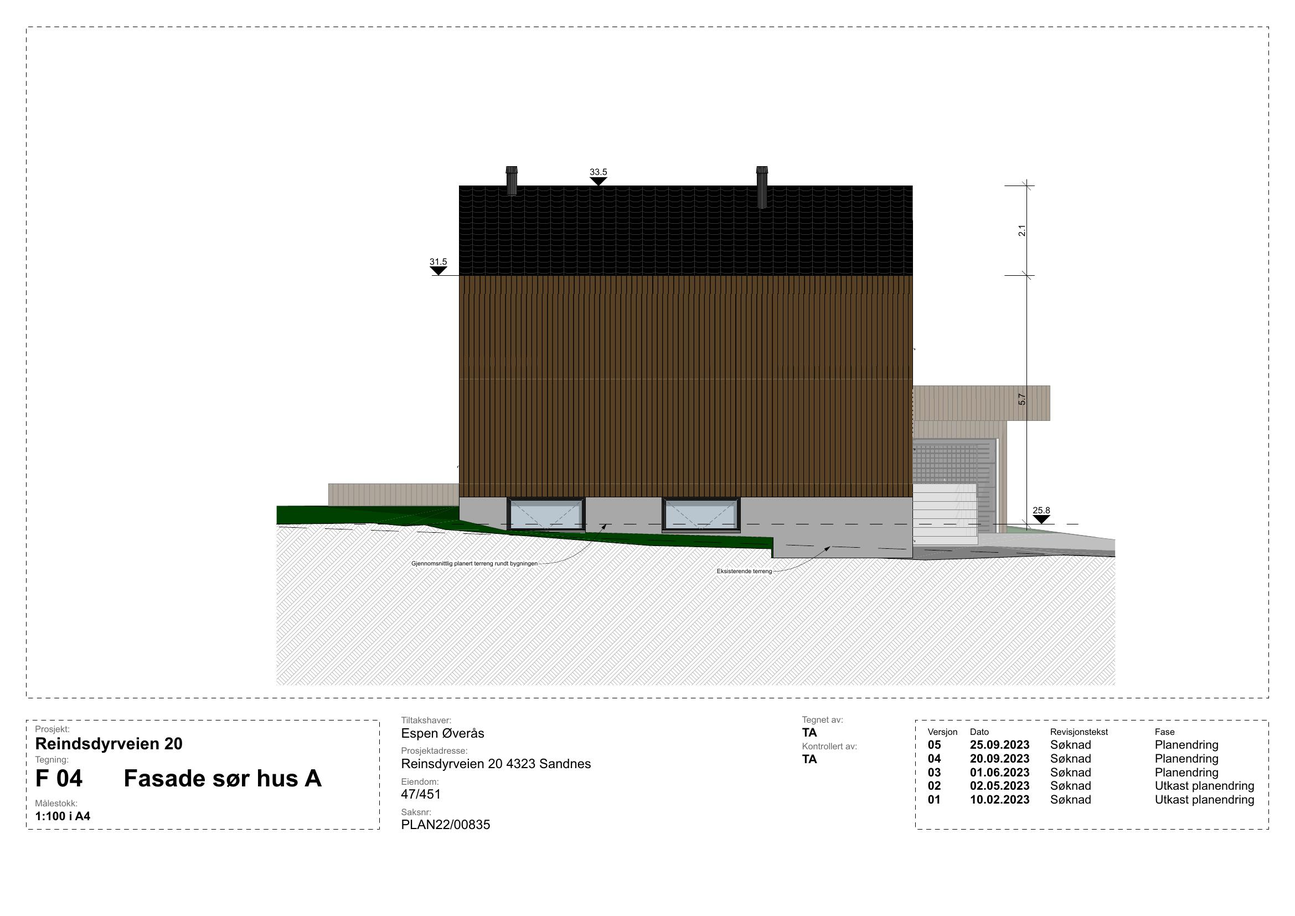fasade: (327, 164, 1052, 564)
